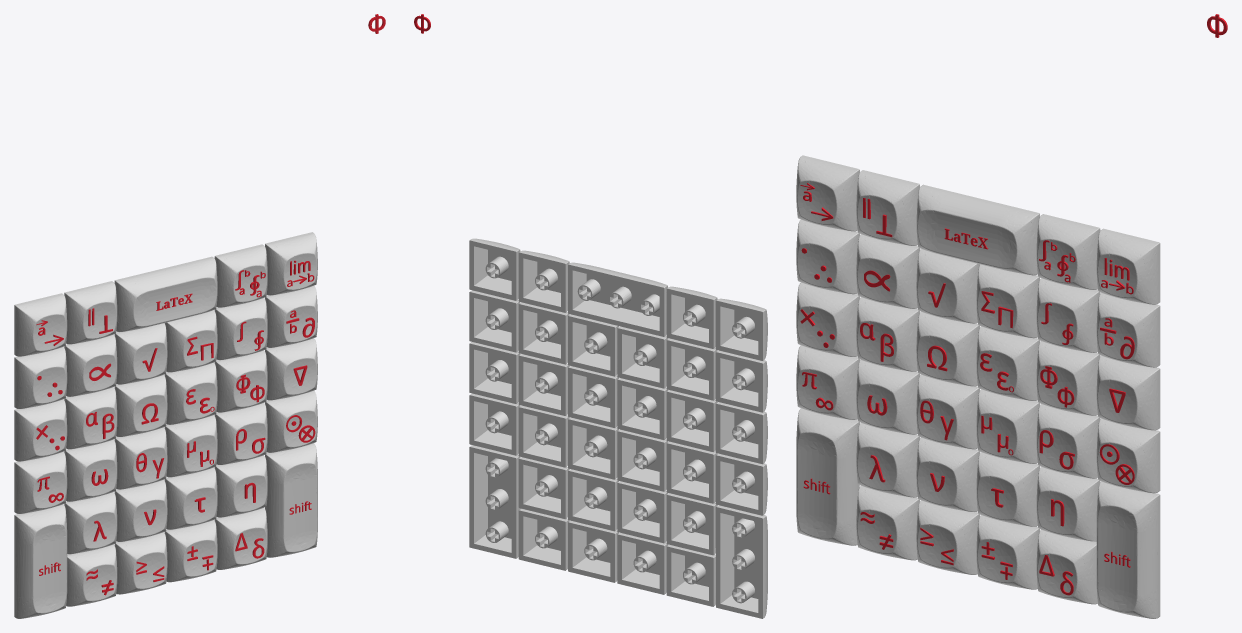
Rendered from tinker.obj.
The picture shows the model from 3 angles, left to right: view 1: azimuth 30°, elevation 25°; view 2: azimuth 150°, elevation 25°; view 3: azimuth 330°, elevation 25°; orthographic projection. The views are drawn at different scales.
Visible parts, largest first — view 1: obj_44, obj_45, obj_46, obj_14, obj_18, obj_24, obj_30, obj_15, obj_37, obj_38, obj_16, obj_20 (+21 smaller); view 2: obj_44, obj_45, obj_46, obj_14, obj_30, obj_18, obj_24, obj_15, obj_17, obj_16, obj_36, obj_20 (+21 smaller); view 3: obj_46, obj_45, obj_44, obj_17, obj_29, obj_14, obj_23, obj_15, obj_18, obj_38, obj_37, obj_36 (+21 smaller).
Part boxes in pixels (box(x1,y1,x2,y2)): obj_44: box(14, 504, 67, 618); obj_45: box(114, 256, 217, 332); obj_46: box(265, 443, 317, 557); obj_14: box(14, 293, 67, 356); obj_18: box(14, 347, 67, 408); obj_24: box(14, 399, 67, 461); obj_30: box(14, 452, 67, 513); obj_15: box(64, 281, 117, 344); obj_37: box(114, 480, 167, 541); obj_38: box(164, 467, 217, 529); obj_16: box(214, 244, 267, 307); obj_20: box(114, 323, 167, 384); obj_44: box(715, 505, 767, 618); obj_45: box(568, 262, 667, 336); obj_46: box(469, 445, 520, 558); obj_14: box(715, 298, 767, 360); obj_30: box(715, 453, 767, 515); obj_18: box(715, 350, 767, 412); obj_24: box(715, 402, 767, 464); obj_15: box(666, 286, 717, 348); obj_17: box(469, 238, 520, 300); obj_16: box(518, 250, 569, 312); obj_36: box(666, 493, 717, 555); obj_20: box(617, 326, 668, 388); obj_46: box(1096, 481, 1160, 618); obj_45: box(916, 184, 1039, 275); obj_44: box(796, 408, 859, 545); obj_17: box(1096, 228, 1160, 304); obj_29: box(1096, 355, 1160, 430); obj_14: box(796, 155, 859, 231); obj_23: box(1096, 293, 1160, 367); obj_15: box(856, 170, 919, 245); obj_18: box(796, 219, 859, 294); obj_38: box(976, 452, 1039, 526); obj_37: box(916, 437, 979, 511); obj_36: box(856, 423, 919, 497).
Size of the model in its own units: 138 by 190 by 7.91.
